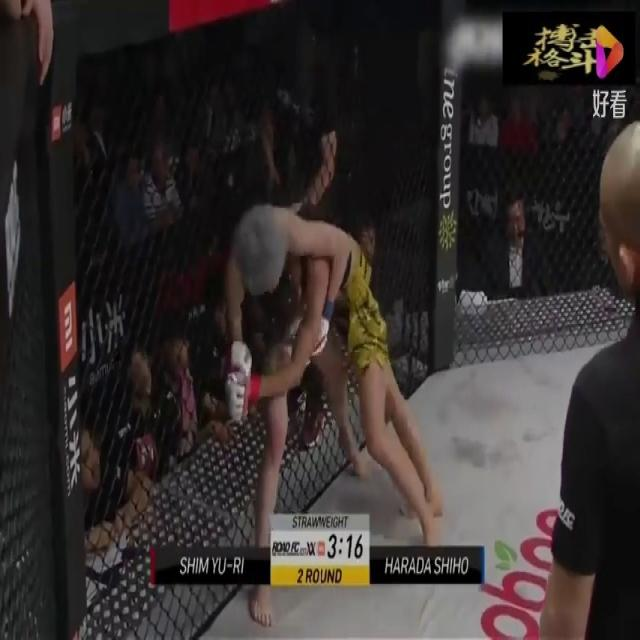fight: (213, 150, 446, 632)
non-fight: (537, 85, 639, 640)
